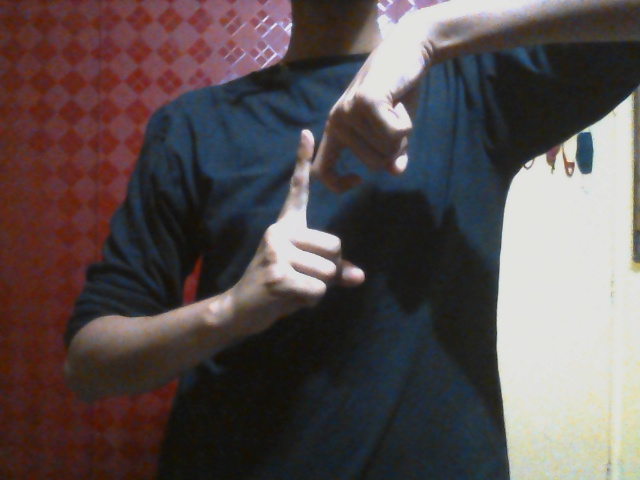K: (230, 80, 425, 342)
